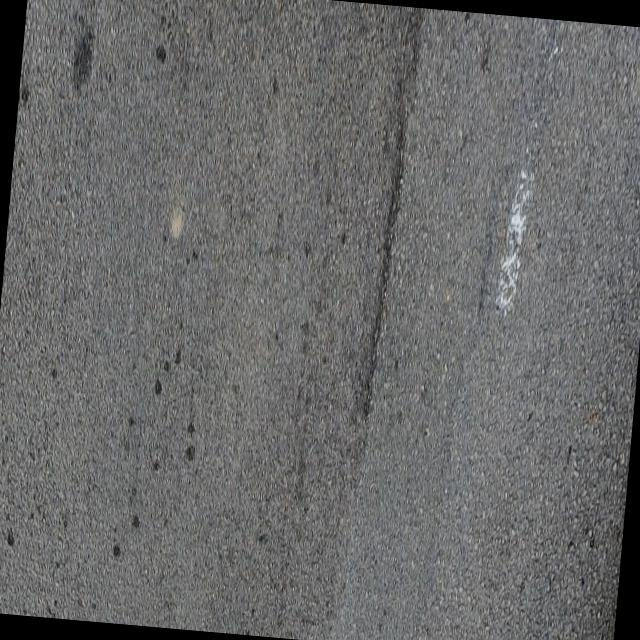Retak-Memanjang: (362, 106, 409, 425)
